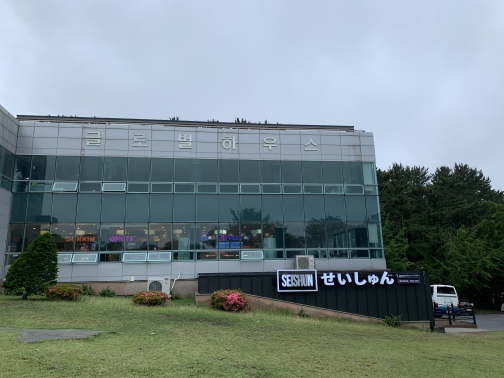Global House: (6, 108, 423, 319), (71, 125, 327, 166)
